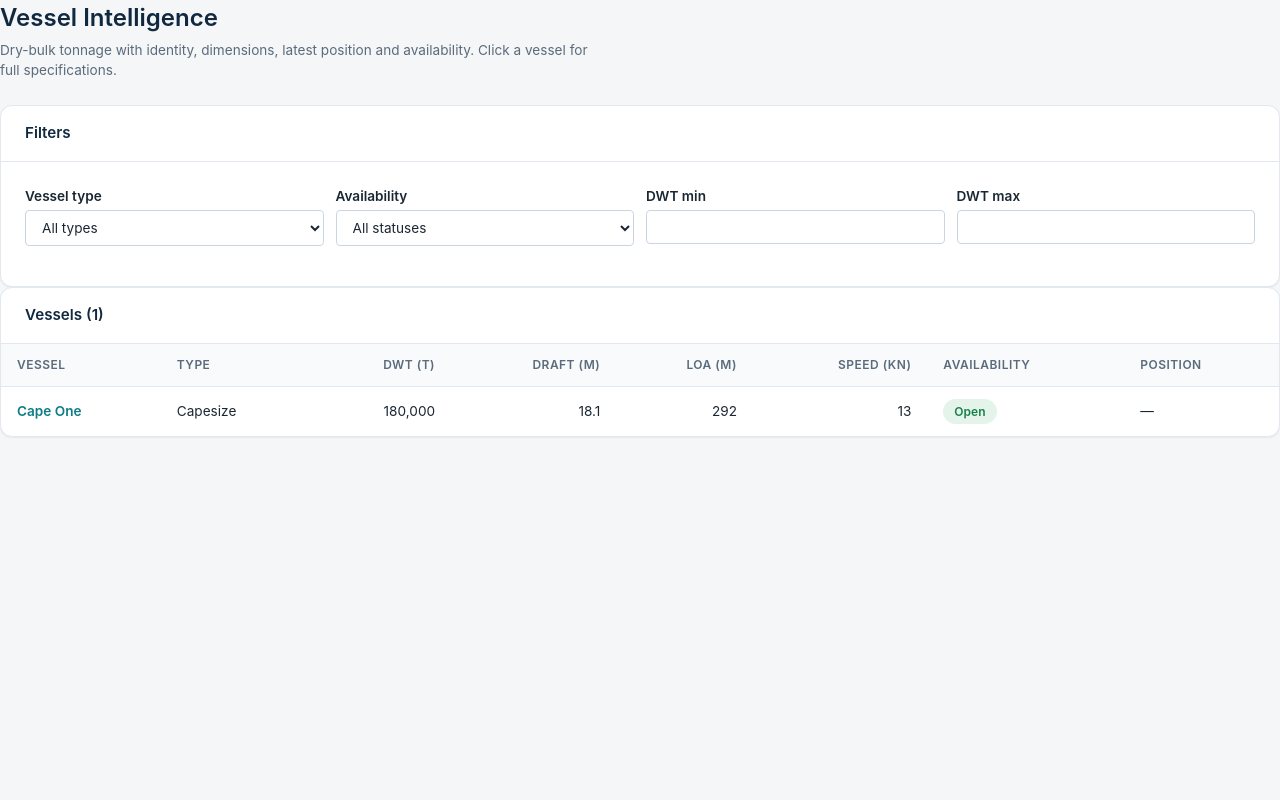
Test: VesselsPage › opens a detail modal when a vessel name is clicked
The image size is (1280, 800).
Click the button "Cape One": (49, 411) left=17, top=401, right=82, bottom=422
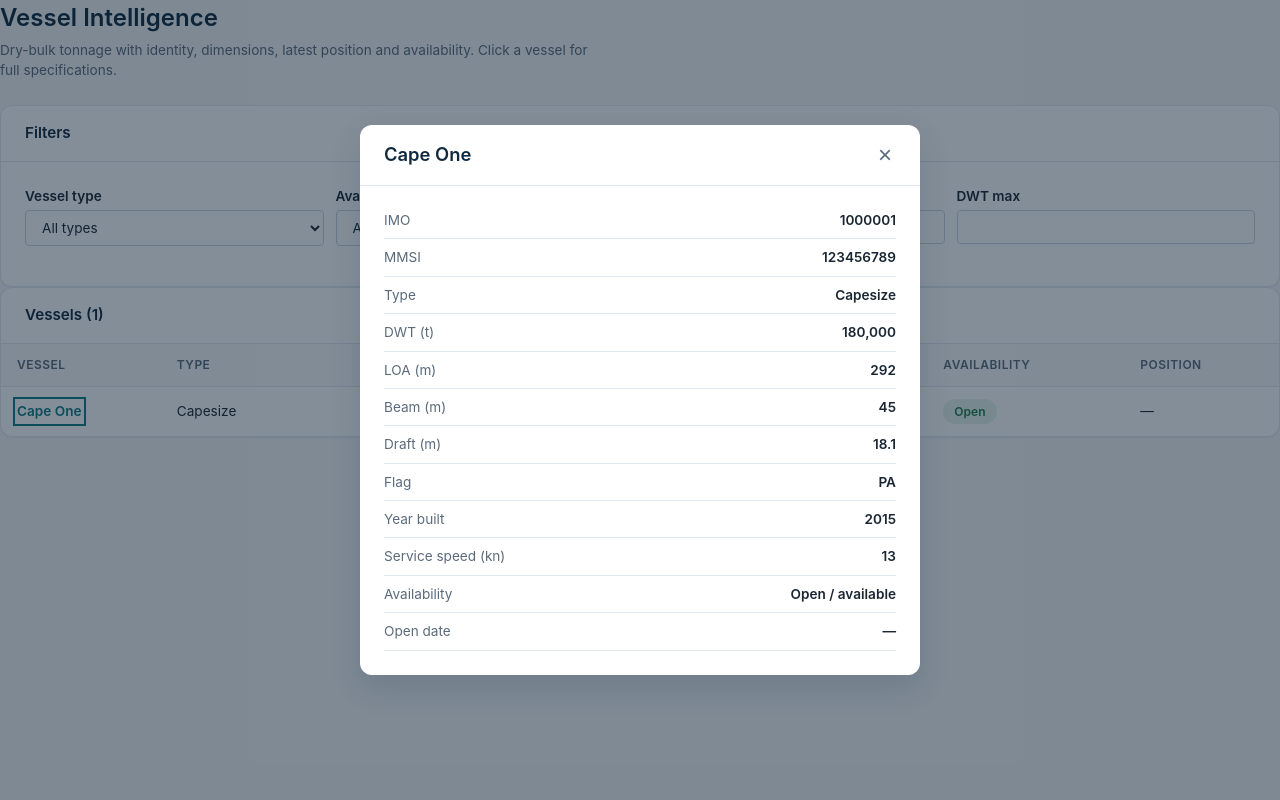
Now the dialog is shown, box left=360, top=125, right=920, bottom=675
Now the text "1000001" is shown, box left=840, top=210, right=896, bottom=230
